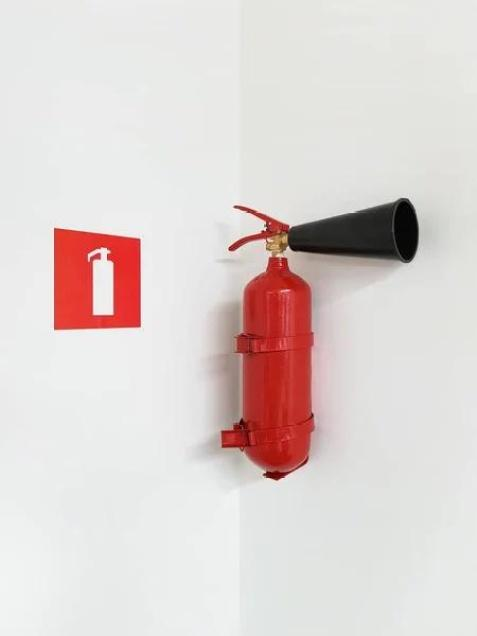APAR: (230, 204, 315, 479)
